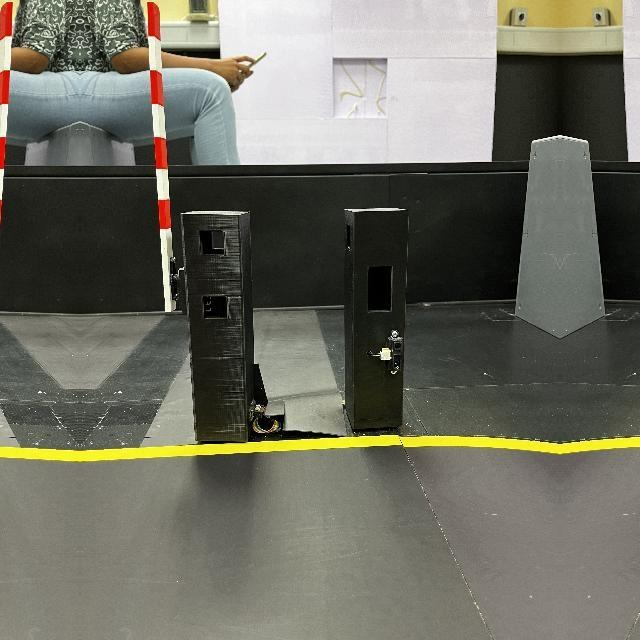obstacle: (185, 208, 257, 442), (342, 204, 416, 430)
